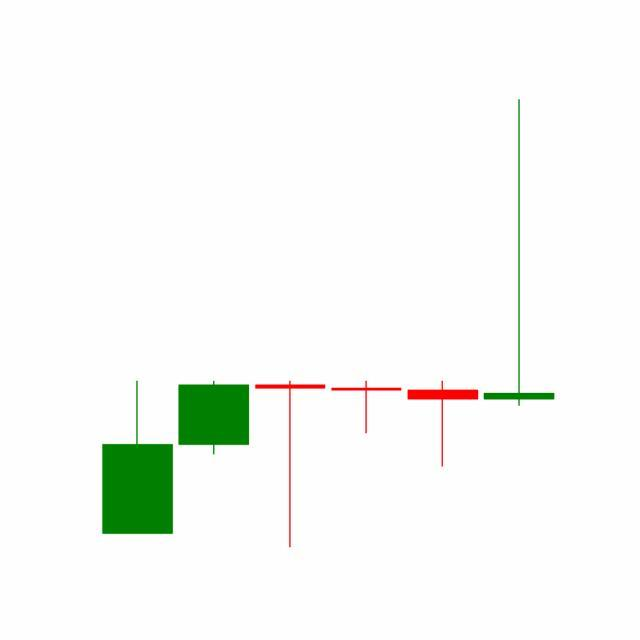Dragonfly Doji: (404, 380, 482, 469)
